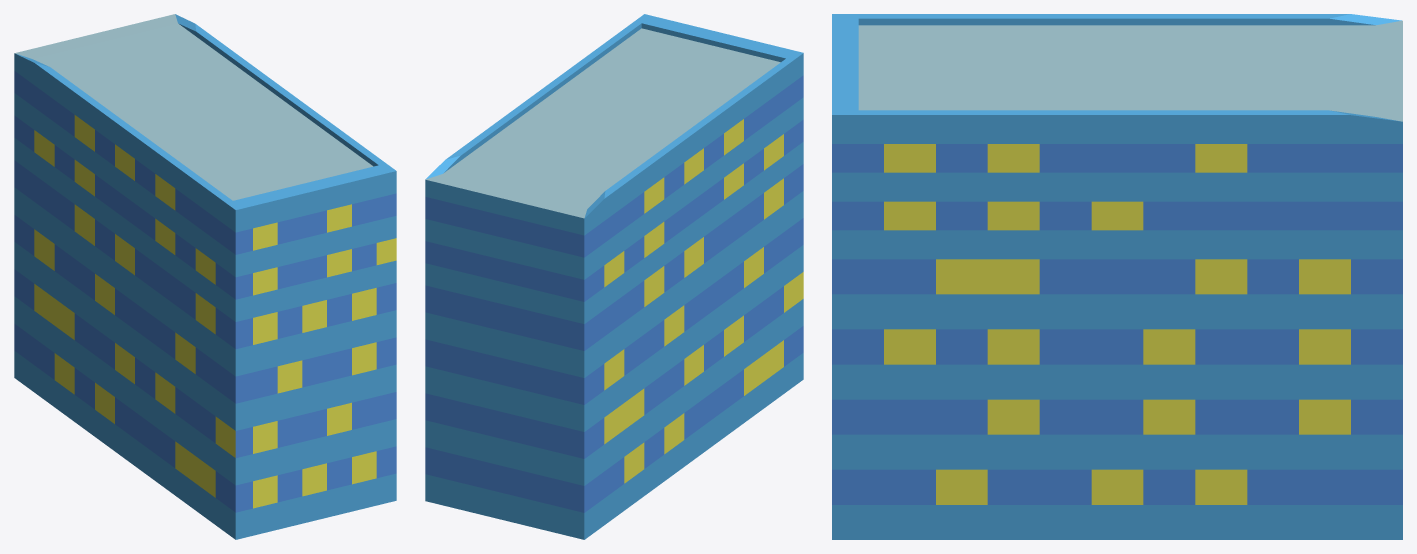
The model's file is Deliksiz_Bina.fbx.
3 renders of one model, left to right at view 1: azimuth 30°, elevation 25°; view 2: azimuth 150°, elevation 25°; view 3: azimuth 270°, elevation 25°, orthographic. The views are drawn at different scales.
Parts seen in each view (by area): view 1: Cube.002, Cube.006, Cube.008, Cube.007; view 2: Cube.002, Cube.006, Cube.008, Cube.007; view 3: Cube.002, Cube.006, Cube.008, Cube.007.
Part boxes in pixels (bbox=[...]): Cube.002: bbox=[14, 14, 396, 539]; Cube.006: bbox=[14, 71, 396, 512]; Cube.008: bbox=[15, 14, 373, 200]; Cube.007: bbox=[34, 115, 396, 508]; Cube.002: bbox=[425, 14, 803, 539]; Cube.006: bbox=[425, 75, 803, 512]; Cube.008: bbox=[426, 28, 780, 218]; Cube.007: bbox=[604, 119, 803, 483]; Cube.002: bbox=[832, 14, 1402, 539]; Cube.006: bbox=[832, 144, 1402, 504]; Cube.008: bbox=[858, 20, 1402, 121]; Cube.007: bbox=[884, 144, 1350, 504].
Size of the model in its own units: 270 by 529 by 644.
